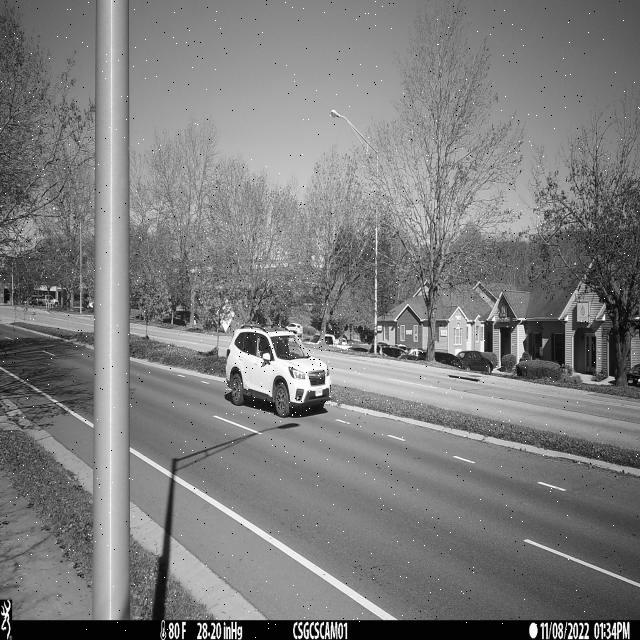SUV: (226, 323, 334, 418)
